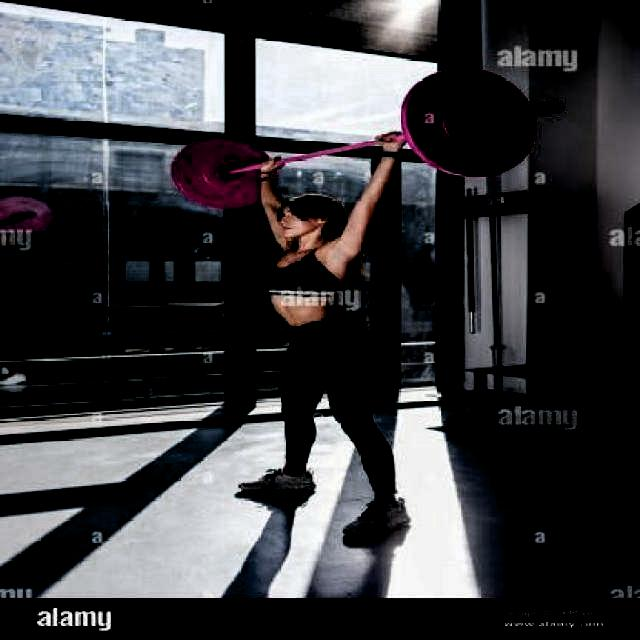barbell: (395, 65, 572, 185)
